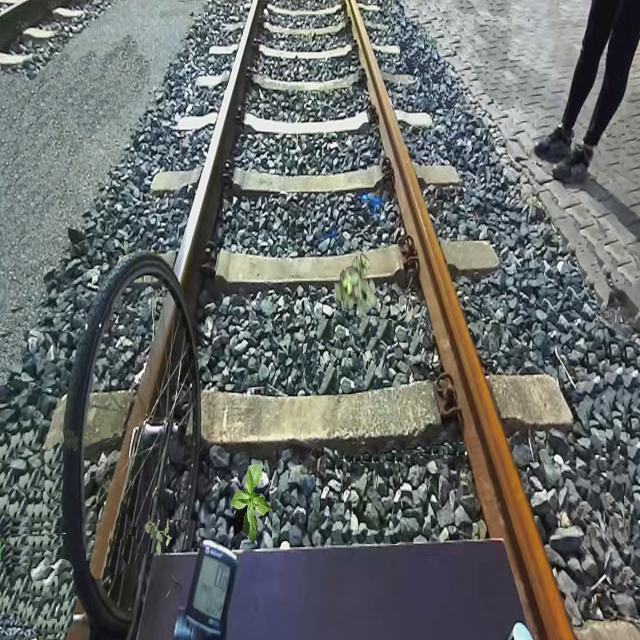Plant: (231, 464, 273, 544), (334, 252, 378, 318), (145, 515, 172, 556)
